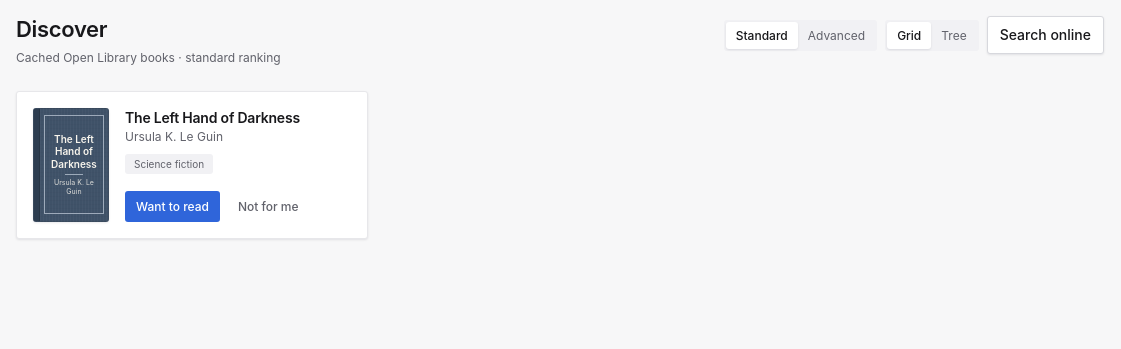
it: waiting for a search › fills the bar to the share of the work done
Click the button "Search online".
click(1045, 35)  # box [987, 16, 1104, 54]
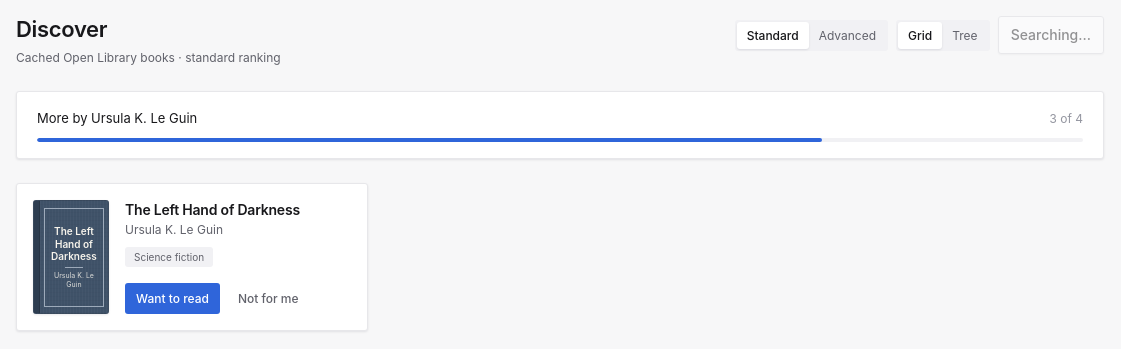
Expected: the element named "Search progress" is shown, [16, 91, 1104, 160]
